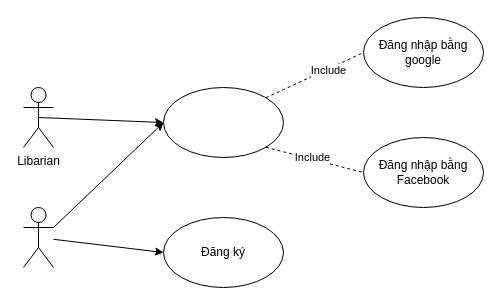
Some shapes in this 501 by 306 pixel diagram are drawn without their labels. The centre of each missing label's shape, as x and y in pixels:
"User" belongs at pixel 38 237.
"Đăng nhập" belongs at pixel 223 122.
